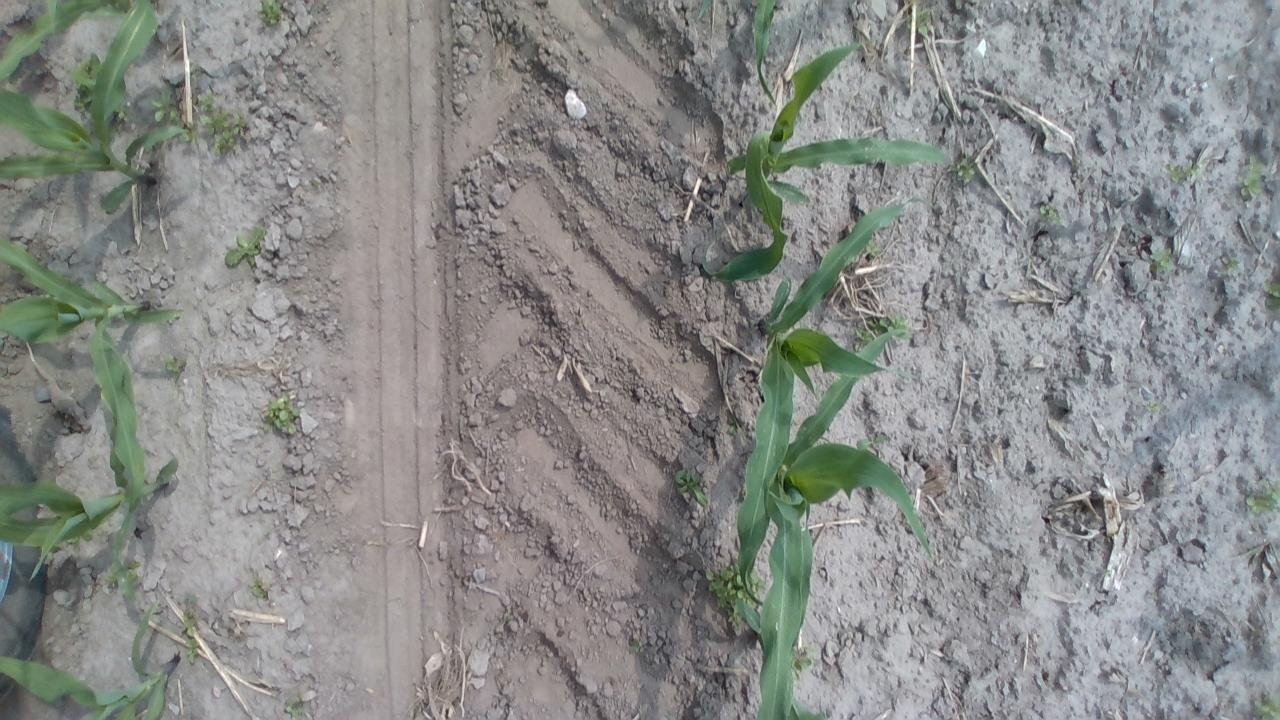Maize: (726, 188, 938, 592), (737, 322, 937, 720), (694, 35, 956, 285), (0, 237, 189, 503), (0, 332, 181, 602), (0, 0, 182, 214), (0, 596, 180, 720), (729, 597, 848, 720), (2, 0, 118, 82), (752, 0, 788, 104), (690, 0, 715, 22)
Weeds: (702, 556, 768, 636), (196, 92, 253, 158), (222, 226, 268, 270), (264, 393, 306, 438), (854, 313, 913, 344), (72, 52, 101, 114), (1242, 477, 1280, 524), (672, 466, 711, 510), (146, 83, 182, 129), (179, 607, 207, 666), (102, 562, 148, 591), (1239, 158, 1266, 199), (786, 646, 818, 680), (253, 0, 288, 27), (1164, 154, 1200, 180), (1251, 690, 1280, 720), (1261, 273, 1280, 317), (903, 6, 929, 38), (952, 156, 978, 188), (855, 433, 892, 452), (282, 695, 310, 720), (163, 350, 186, 380), (1036, 200, 1062, 226), (1147, 246, 1173, 272), (1217, 254, 1243, 278), (247, 578, 270, 604), (112, 101, 134, 127), (863, 238, 886, 262), (181, 122, 197, 148), (1138, 397, 1159, 414), (727, 422, 740, 442), (37, 550, 57, 563), (182, 594, 202, 606), (630, 639, 644, 656), (67, 535, 81, 547)
